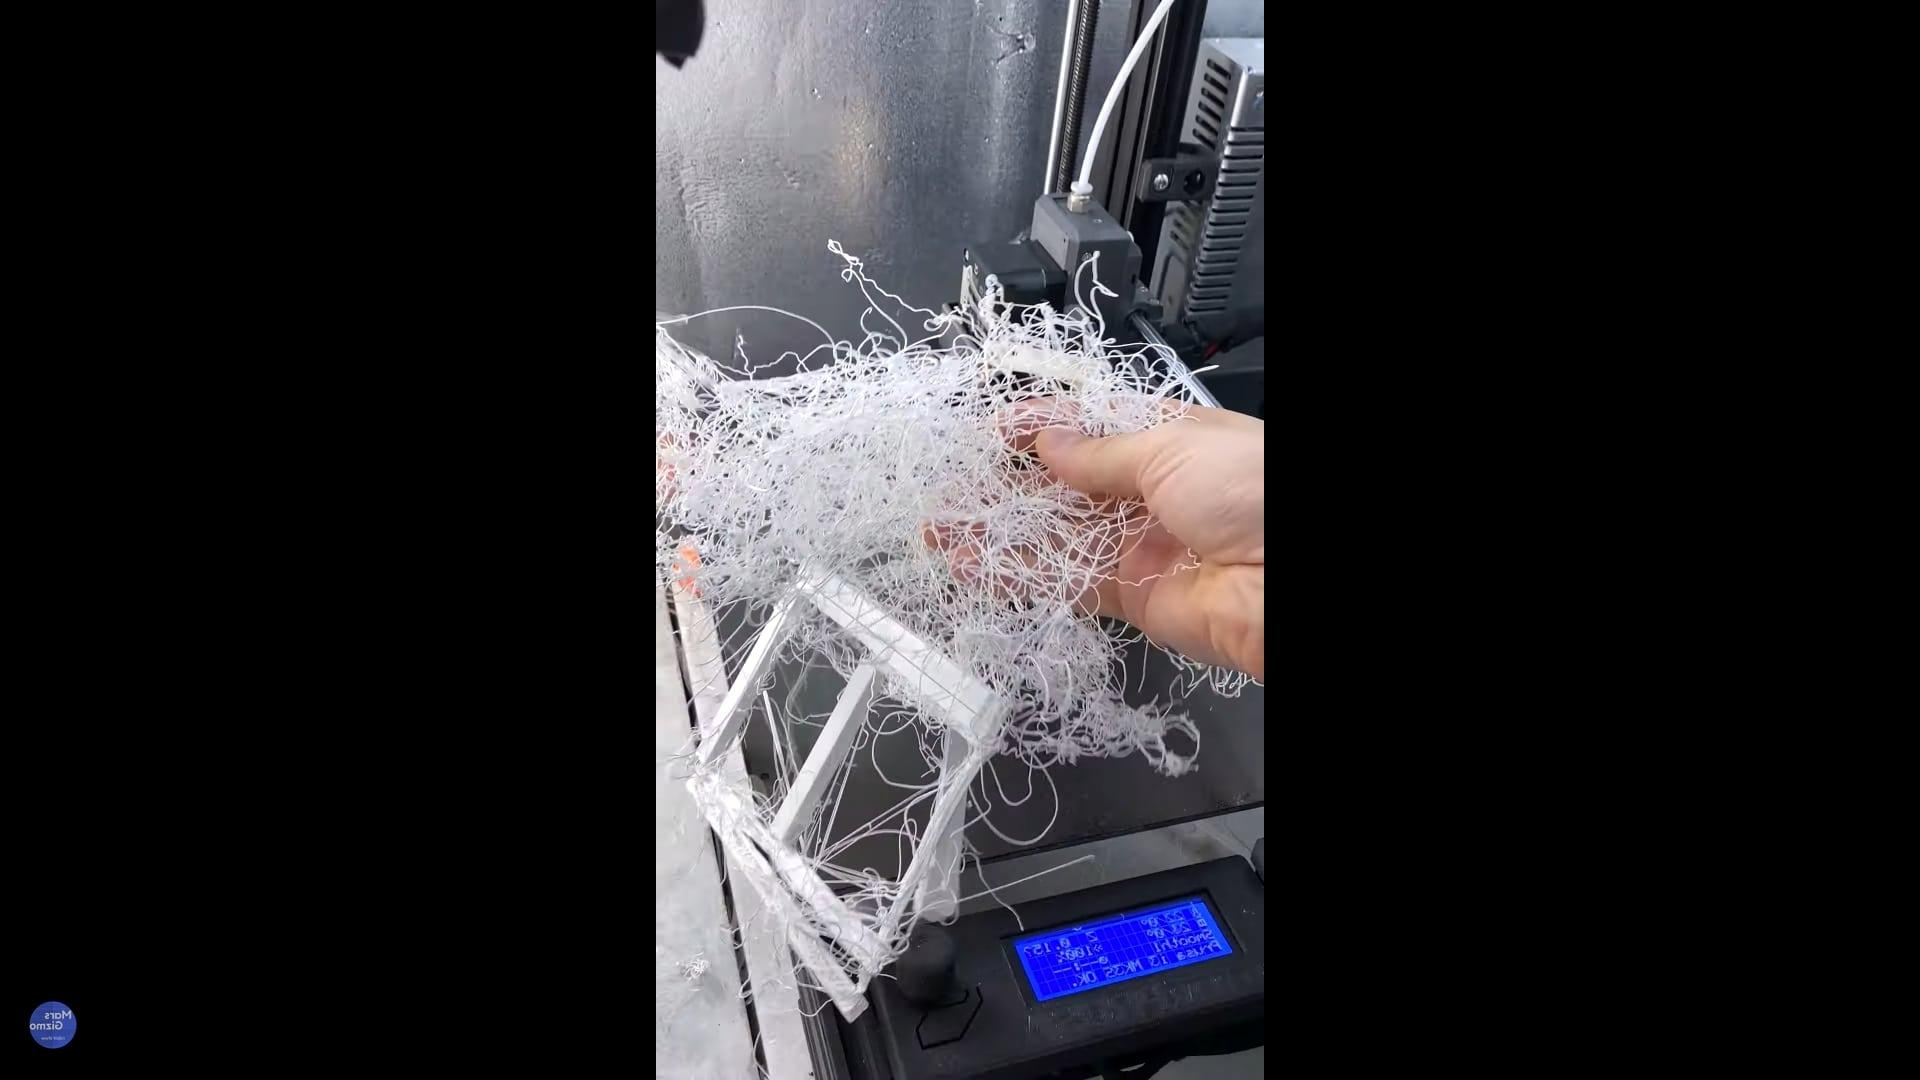Printing-Artifact: (637, 260, 1166, 686)
